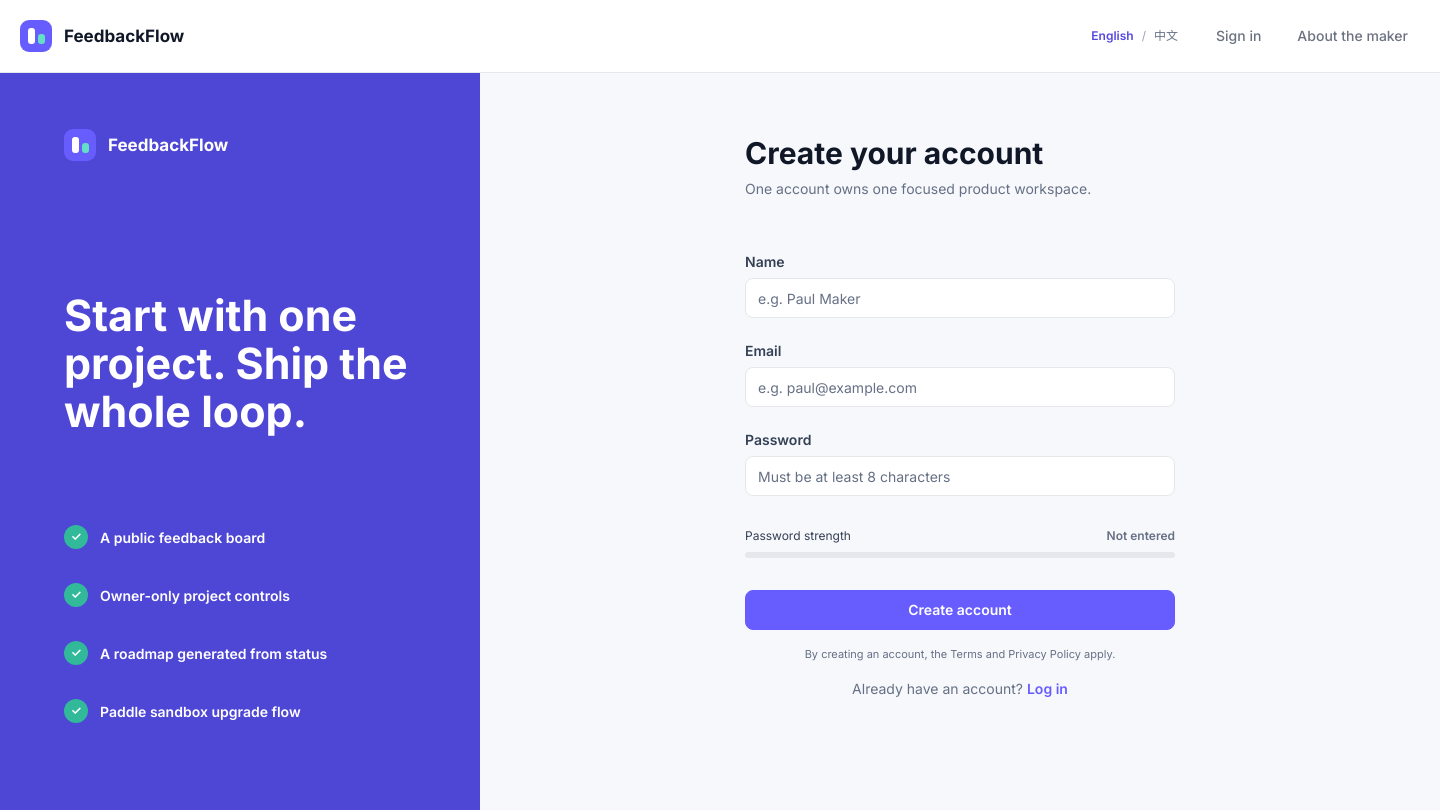
RegisterPage › disables submission while account creation is pending
Type "Paul" into the field labelled "Name" at point(960, 298), box [745, 278, 1175, 318]
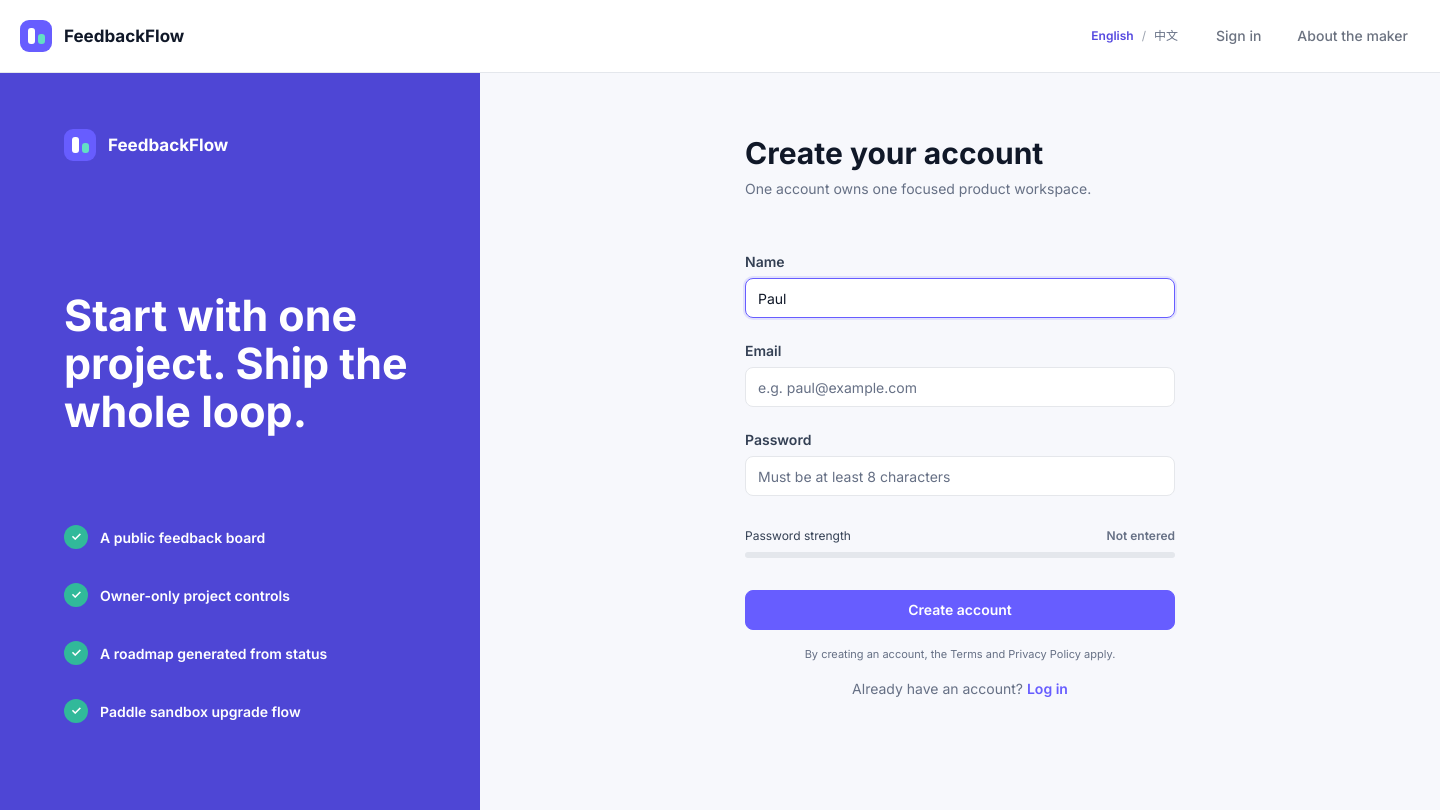
Type "paul@example.com" into the field labelled "Email" at point(960, 387), box [745, 367, 1175, 407]
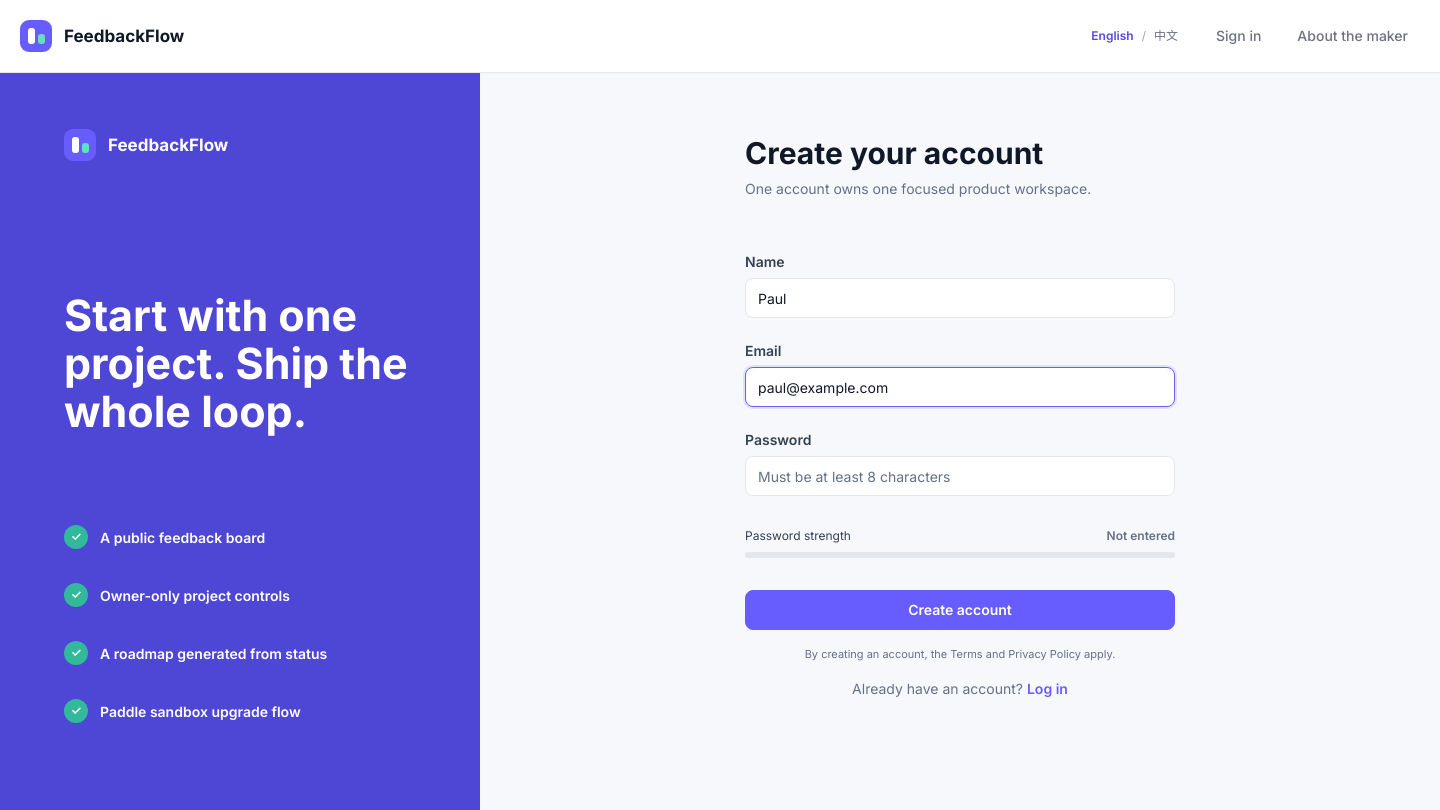
Type "Feedback123!" into the password field labelled "Password" at point(960, 476), box [745, 456, 1175, 496]
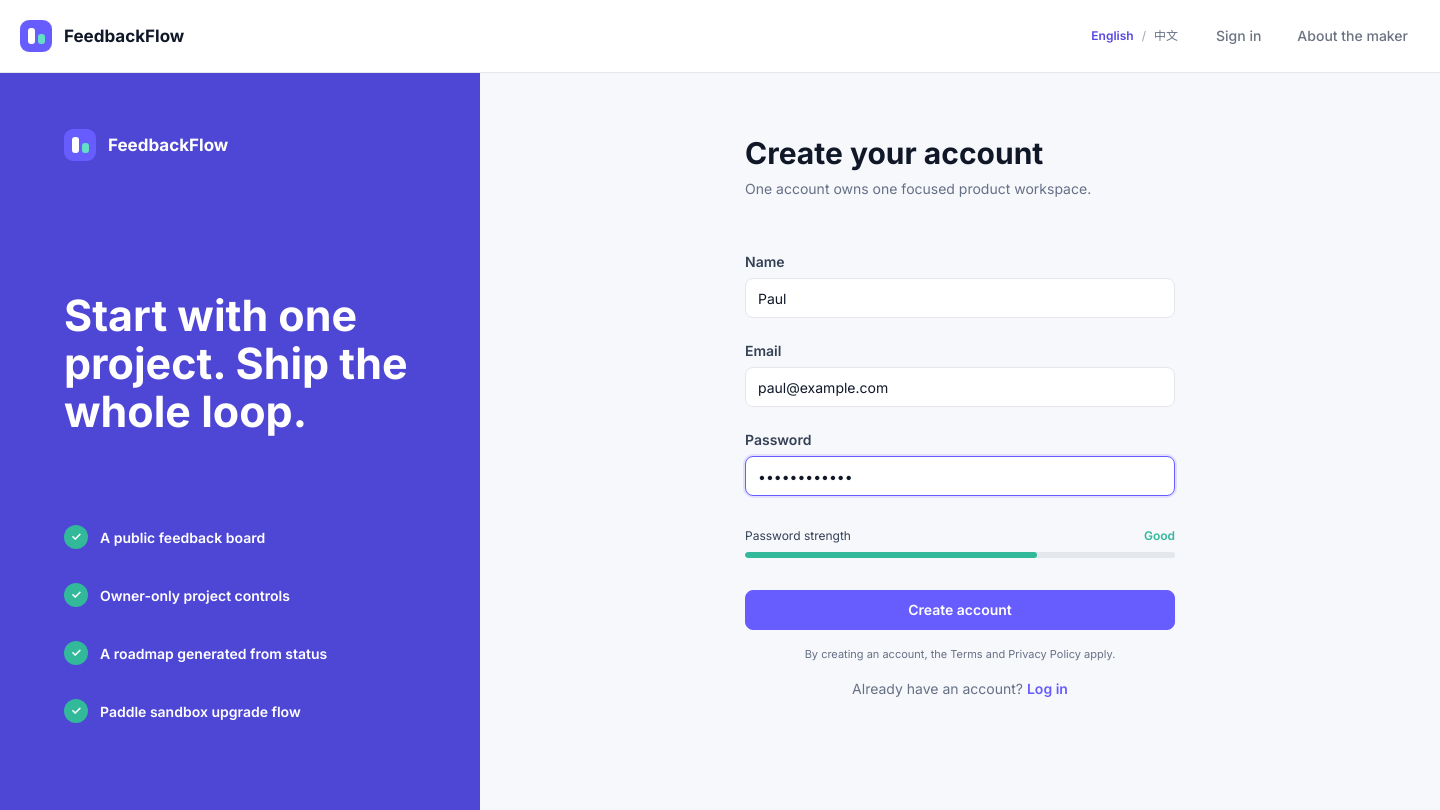
Double-click the button "Create account" at point(960, 610), box [745, 590, 1175, 630]
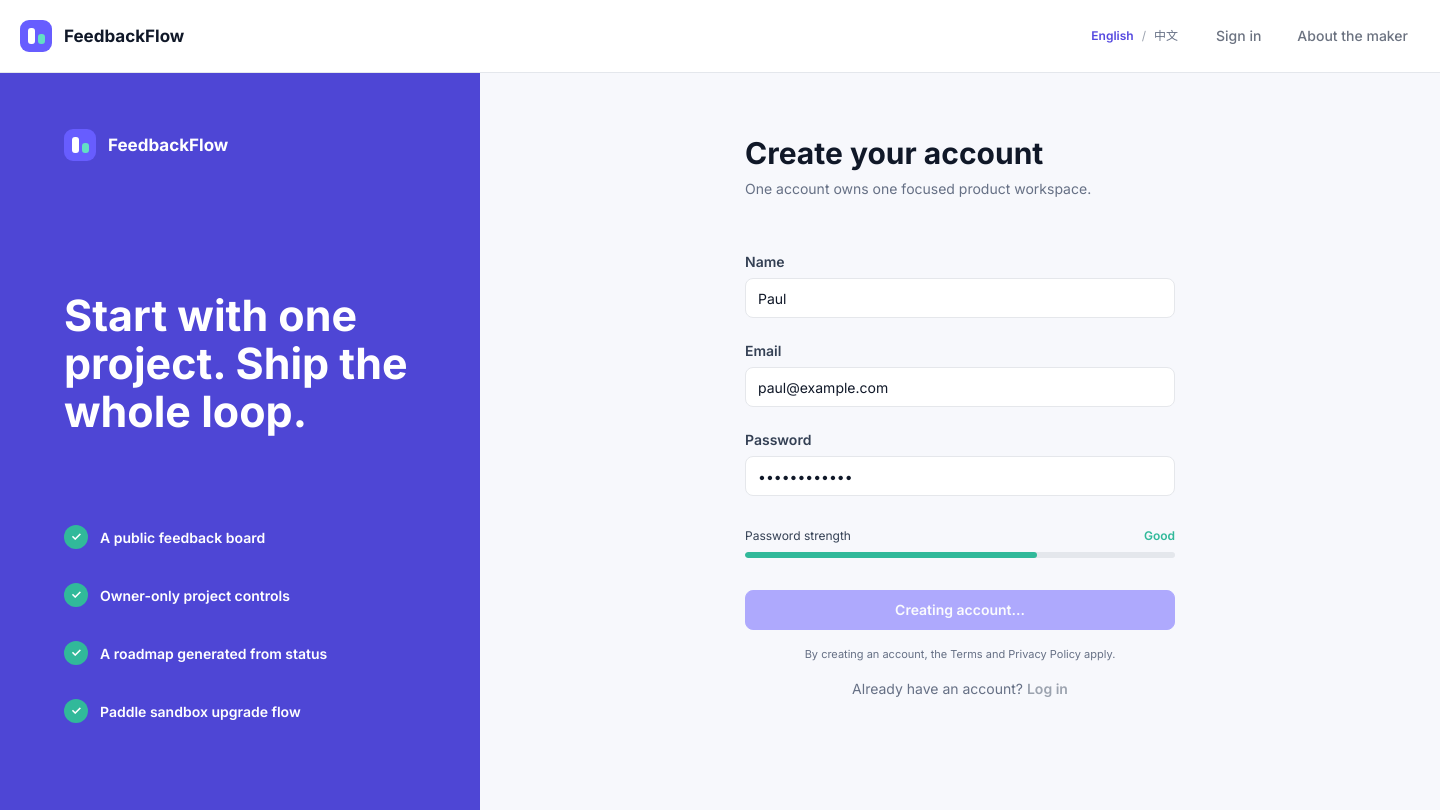
Check: the button "Creating account..." is disabled, box [745, 590, 1175, 630]
